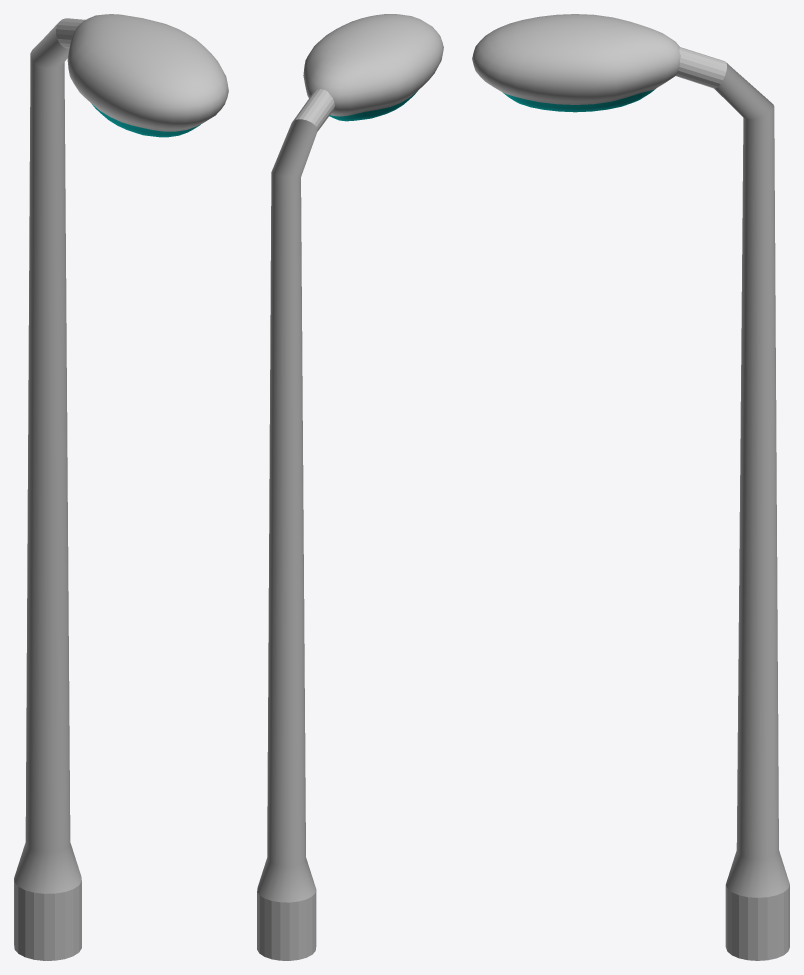
The model's file is LightPost.fbx.
The picture shows the model from 3 angles, left to right: view 1: azimuth 30°, elevation 25°; view 2: azimuth 150°, elevation 25°; view 3: azimuth 270°, elevation 25°; orthographic projection. The views are drawn at different scales.
Parts seen in each view (by area): view 1: pCylinder16; view 2: pCylinder16; view 3: pCylinder16.
Part boxes in pixels (box(x1,y1,x2,y2)): pCylinder16: box(14, 14, 228, 960); pCylinder16: box(257, 14, 443, 960); pCylinder16: box(472, 14, 789, 960).
Size of the model in its own units: 0.2439 by 1.9 by 0.5946.
